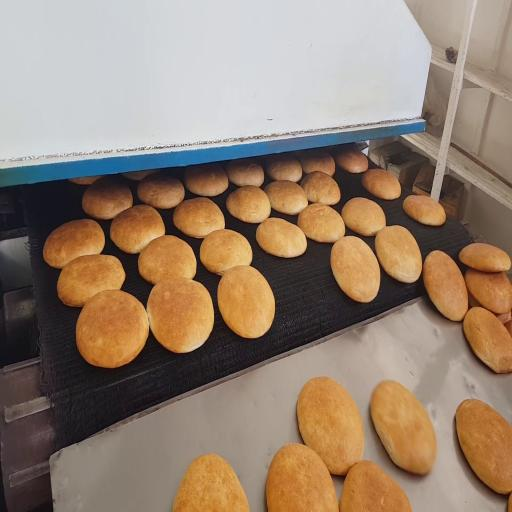bread: (297, 377, 364, 475), (370, 381, 436, 475), (76, 291, 148, 368), (456, 400, 511, 493), (147, 277, 213, 353), (266, 444, 338, 511), (173, 454, 249, 511), (218, 266, 275, 338), (339, 461, 411, 511), (57, 255, 125, 307), (331, 237, 380, 302), (464, 307, 511, 373), (423, 251, 467, 321), (43, 220, 105, 268), (138, 236, 196, 284), (110, 205, 165, 254), (375, 226, 422, 283), (200, 229, 252, 275), (82, 177, 132, 219), (465, 268, 511, 313), (173, 198, 224, 238), (256, 218, 306, 257), (298, 203, 345, 243), (137, 174, 184, 209), (342, 198, 385, 236), (226, 186, 270, 223), (459, 244, 510, 272), (265, 181, 307, 215), (184, 164, 228, 196), (403, 195, 446, 226), (301, 172, 340, 205), (362, 169, 401, 200), (226, 160, 264, 186), (266, 155, 302, 182), (299, 152, 335, 176), (335, 147, 368, 173), (122, 169, 157, 181), (70, 175, 103, 185), (494, 312, 511, 324), (505, 321, 511, 336), (508, 494, 511, 511)
